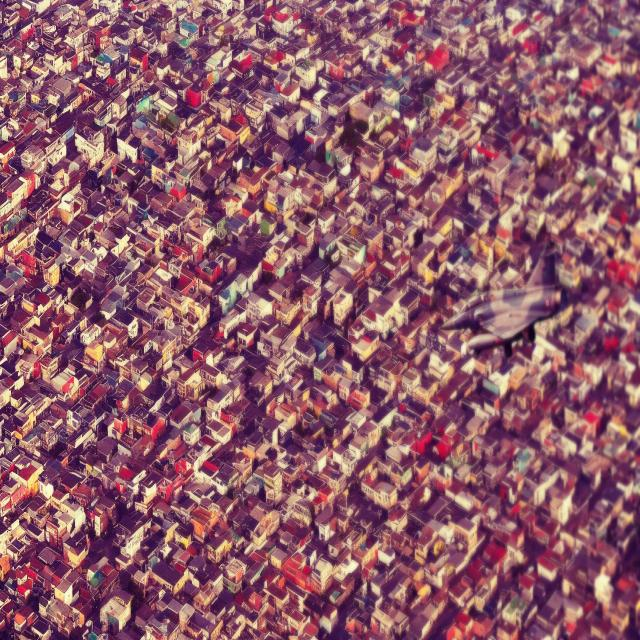airplane: (439, 238, 566, 359)
